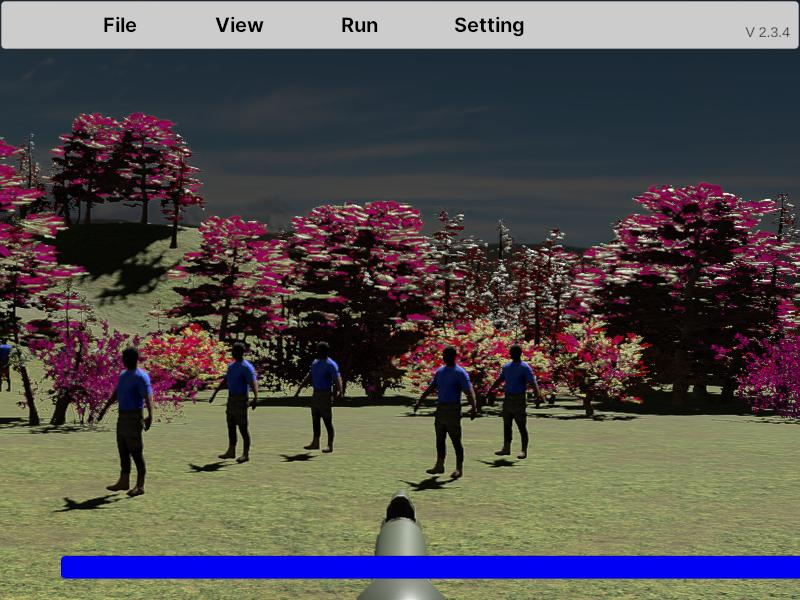Human: (96, 344, 153, 498), (414, 345, 477, 479), (485, 345, 540, 458), (209, 342, 258, 462), (296, 342, 343, 453)
